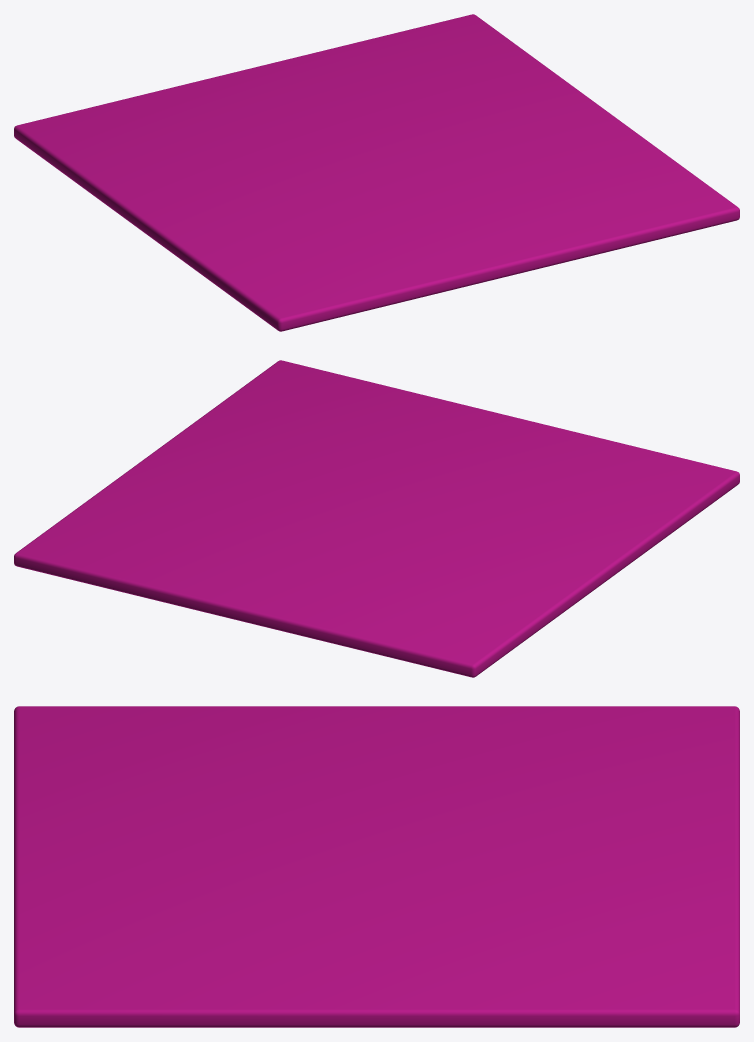
The model's file is alexc_rug_round.fbx.
3 renders of one model, top to bottom at view 1: azimuth 30°, elevation 25°; view 2: azimuth 150°, elevation 25°; view 3: azimuth 270°, elevation 25°, orthographic. The views are drawn at different scales.
Visible parts, largest first — view 1: rug_square; view 2: rug_square; view 3: rug_square.
Boxes of the visible parts, x1=… form: rug_square: x1=14, y1=14, x2=739, y2=331; rug_square: x1=14, y1=360, x2=739, y2=677; rug_square: x1=14, y1=706, x2=739, y2=1027.
Bounding box in the file's own units: 417 × 417 × 11.36.
